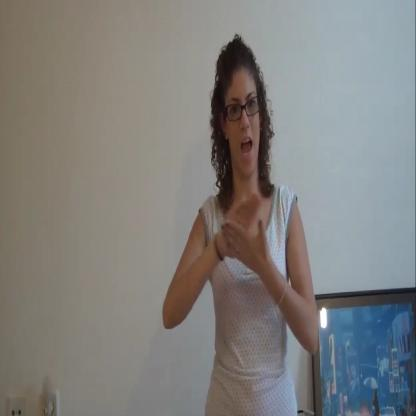NiceToMeetYou: (206, 180, 276, 284)
